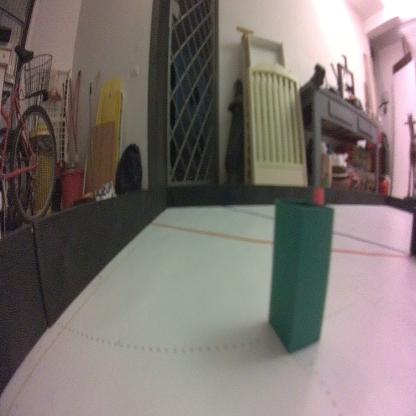green: (266, 198, 336, 354)
red: (312, 185, 324, 203)
